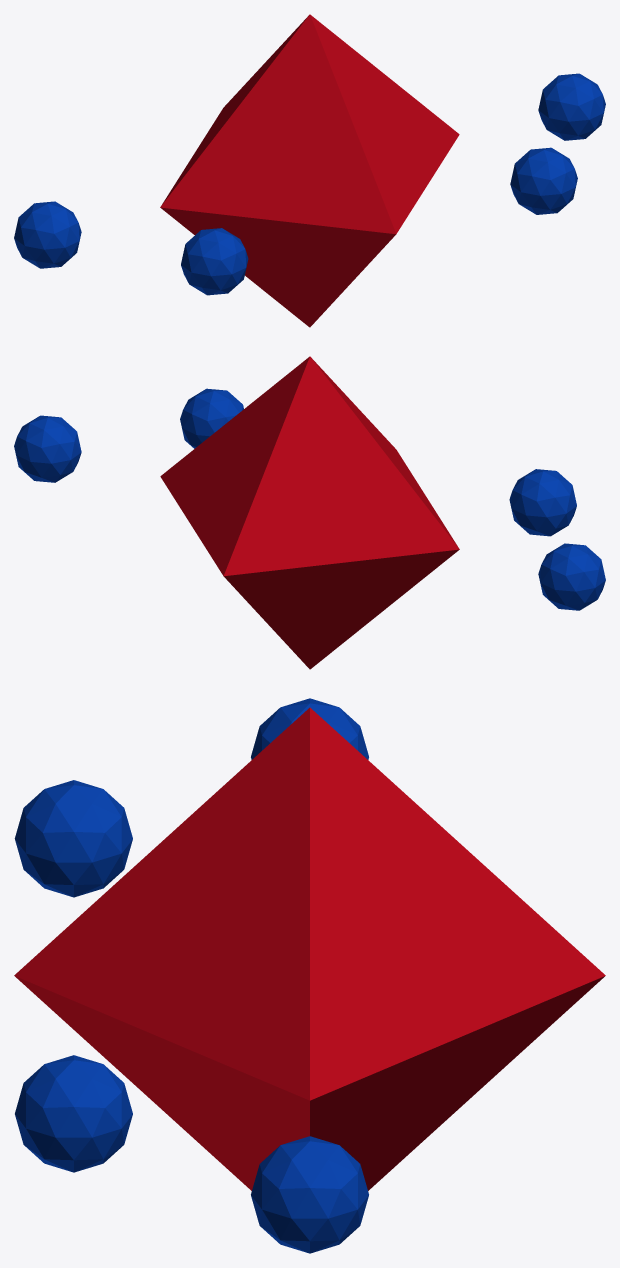
The model's file is crystal4.obj.
The picture shows the model from 3 angles, top to bottom: view 1: azimuth 30°, elevation 25°; view 2: azimuth 150°, elevation 25°; view 3: azimuth 270°, elevation 25°; orthographic projection. The views are drawn at different scales.
Visible parts, largest first — view 1: 立方体; view 2: 立方体; view 3: 立方体.
Boxes of the visible parts, box(x1,y1,x2,y2) form: 立方体: box(14, 14, 605, 327); 立方体: box(14, 356, 605, 669); 立方体: box(14, 698, 605, 1253).
Size of the model in its own units: 3.88 by 2 by 2.
1 material, 1 textured.
